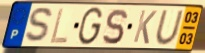G: (76, 6, 105, 47)
K: (131, 9, 159, 46)
L: (49, 7, 70, 45)
S: (23, 6, 55, 45), (101, 8, 128, 46)
U: (154, 9, 185, 47)
